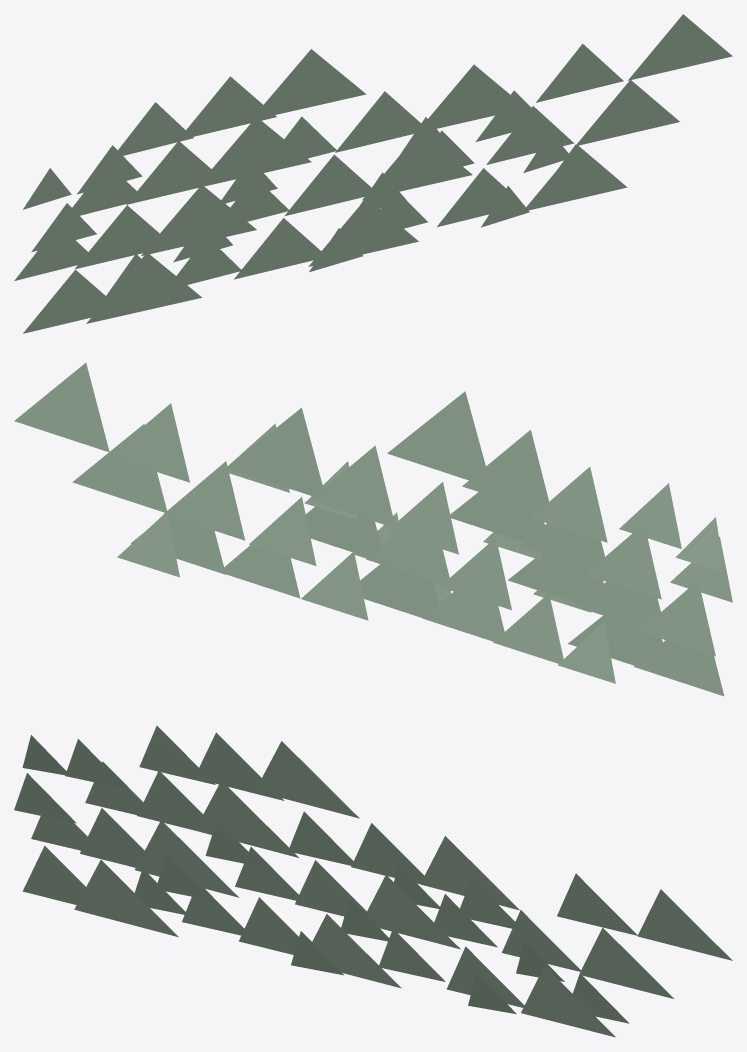
Rendered from prop_bulk_gen_0839_lod0.gltf.
3 renders of one model, top to bottom at view 1: azimuth 30°, elevation 25°; view 2: azimuth 150°, elevation 25°; view 3: azimuth 330°, elevation 25°, orthographic.
Visible parts, largest first — view 1: prop_bulk_gen_0839_lod0; view 2: prop_bulk_gen_0839_lod0; view 3: prop_bulk_gen_0839_lod0.
Part boxes in pixels (bbox=[...]): prop_bulk_gen_0839_lod0: bbox=[14, 14, 732, 333]; prop_bulk_gen_0839_lod0: bbox=[14, 362, 732, 696]; prop_bulk_gen_0839_lod0: bbox=[14, 725, 732, 1037].
Size of the model in its own units: 0.865 by 0.2657 by 0.0785.
